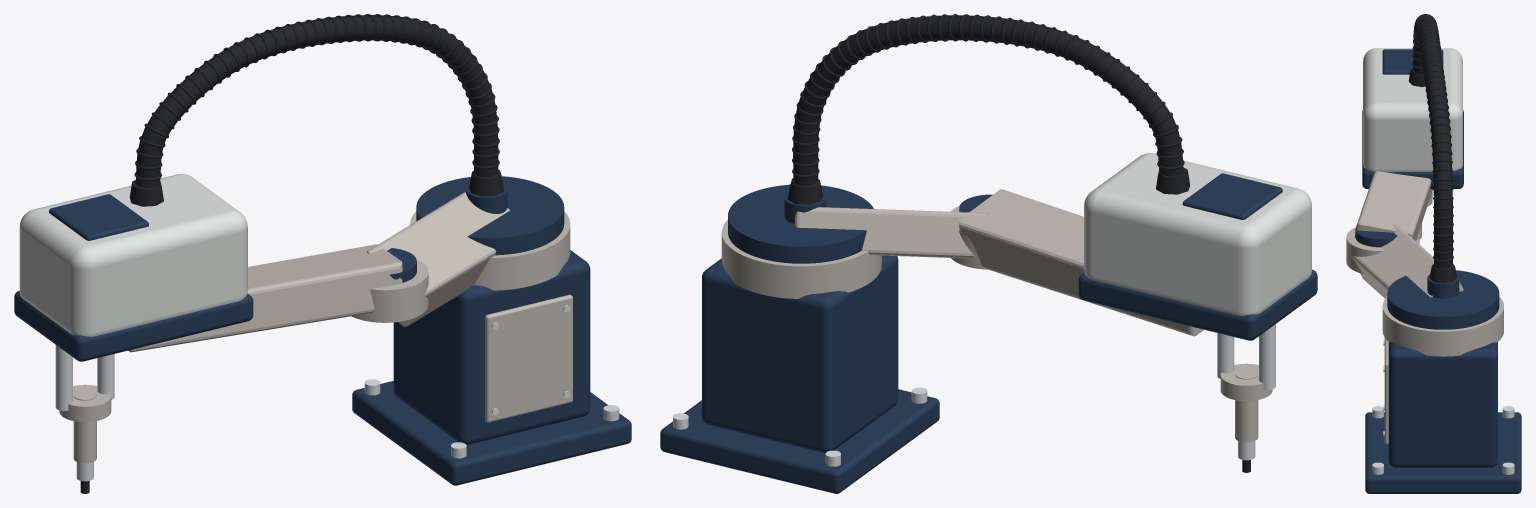
The model's file is robots-09.glb.
The picture shows the model from 3 angles, left to right: view 1: azimuth 30°, elevation 25°; view 2: azimuth 150°, elevation 25°; view 3: azimuth 270°, elevation 25°; orthographic projection. The views are drawn at different scales.
Parts seen in each view (by area): view 1: head, column, cable, base, outer, hatch, shoulder, inner, slide, elbow, glands; view 2: head, column, cable, shoulder, base, outer, inner, slide, glands, elbow; view 3: column, head, shoulder, base, cable, outer, inner, elbow, glands, hatch.
Part boxes in pixels (box(x1,y1,x2,y2)): head: box(14, 174, 253, 361); column: box(393, 250, 590, 444); cable: box(134, 14, 499, 187); base: box(352, 379, 631, 485); outer: box(128, 244, 402, 352); hatch: box(485, 294, 572, 422); shoulder: box(410, 176, 570, 290); inner: box(367, 191, 510, 326); slide: box(55, 345, 114, 463); elbow: box(351, 248, 428, 322); glands: box(129, 169, 507, 213); head: box(1078, 153, 1317, 340); column: box(702, 255, 898, 452); cable: box(792, 14, 1184, 187); shoulder: box(721, 184, 881, 298); base: box(660, 387, 939, 493); outer: box(958, 189, 1203, 336); inner: box(794, 207, 988, 258); slide: box(1217, 324, 1275, 442); glands: box(784, 167, 1190, 223); elbow: box(951, 194, 992, 269); column: box(1388, 342, 1497, 467); head: box(1362, 48, 1463, 188); shoulder: box(1382, 270, 1503, 356); base: box(1365, 406, 1521, 493); cable: box(1412, 14, 1453, 269); outer: box(1354, 171, 1432, 240); inner: box(1352, 224, 1463, 298); elbow: box(1346, 227, 1396, 273); glands: box(1408, 67, 1459, 298); hatch: box(1383, 338, 1388, 444).
Bounding box in the file's own units: 3.21 × 2.54 × 1.15.
